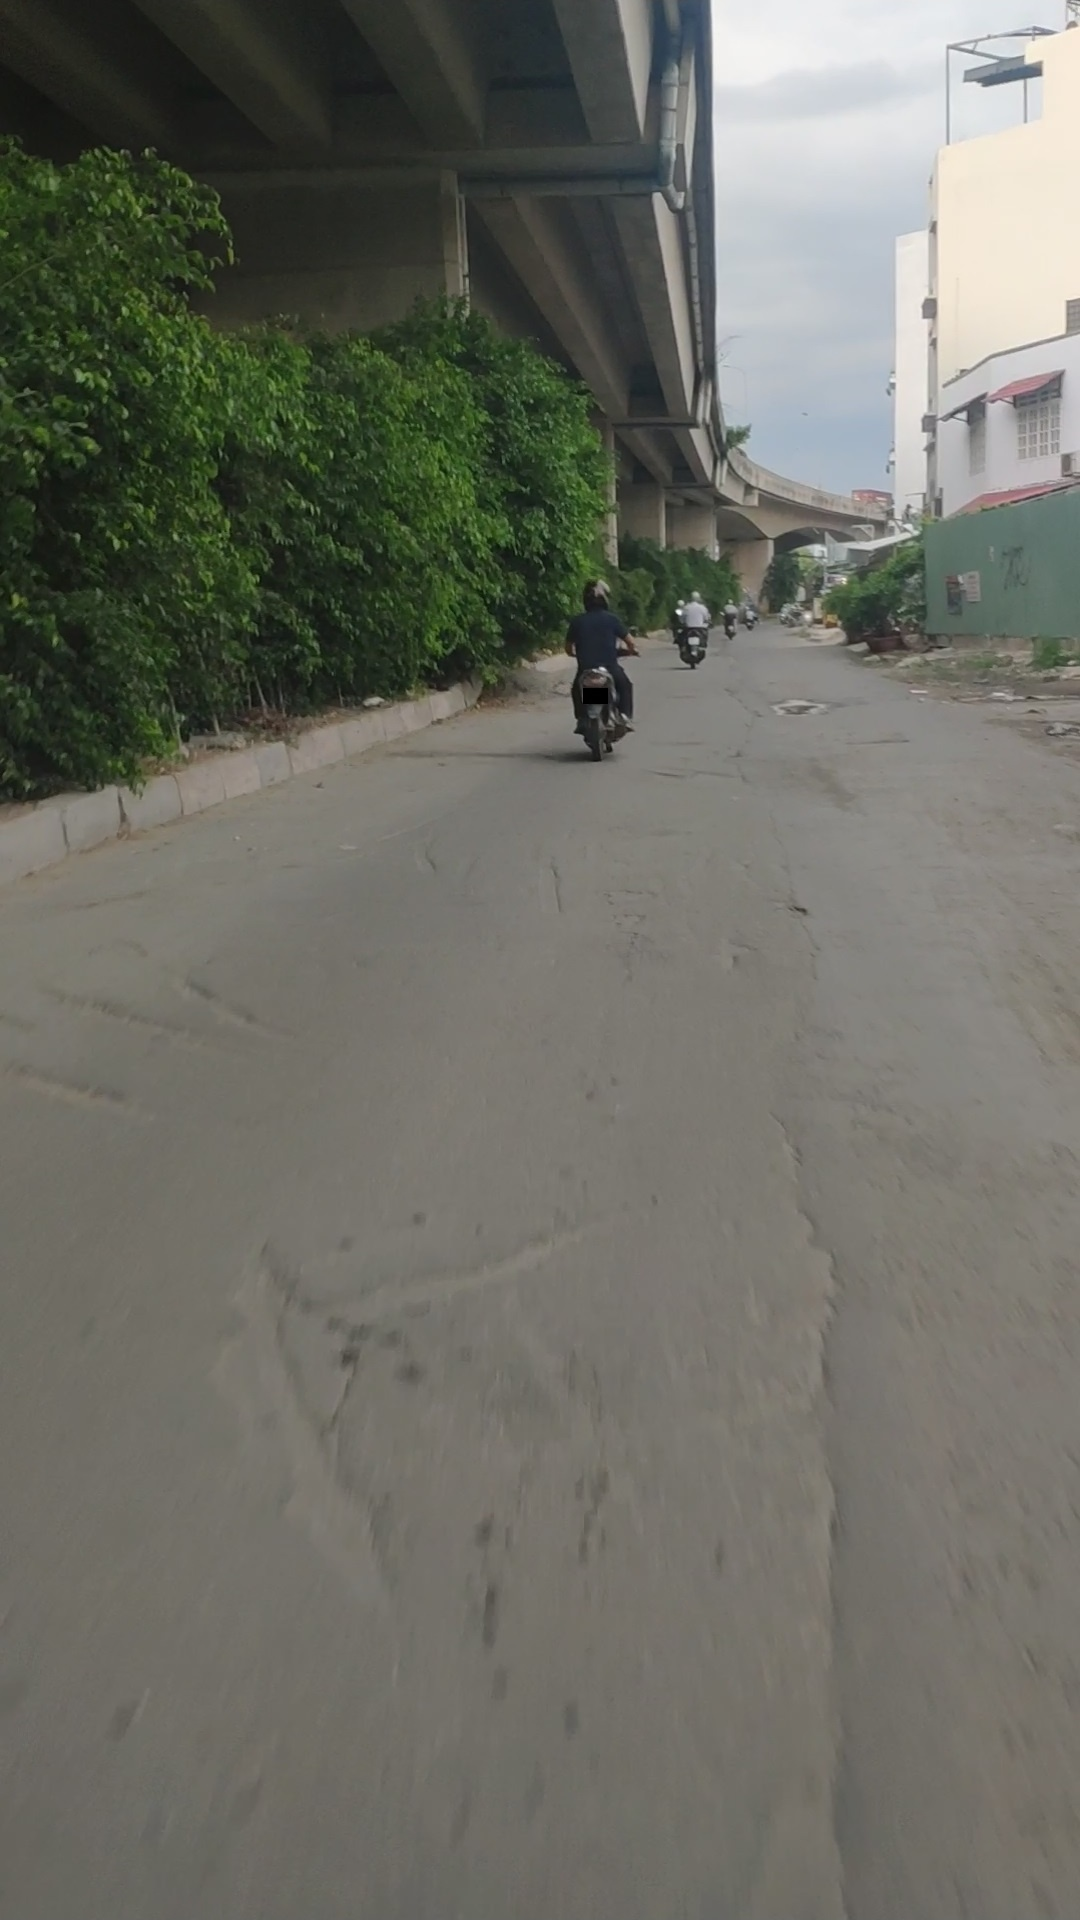hole: (605, 911, 657, 978), (533, 855, 575, 922), (593, 881, 665, 909), (709, 936, 761, 972), (767, 694, 832, 719), (411, 836, 444, 874), (770, 899, 814, 920)
